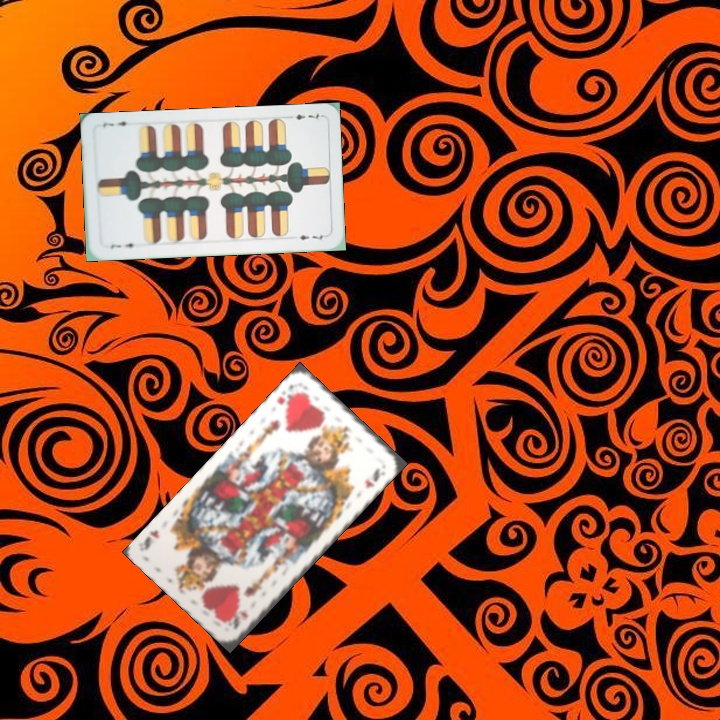E7: (283, 110, 324, 123), (106, 239, 141, 251)
HK: (273, 380, 299, 407), (229, 607, 251, 632)
